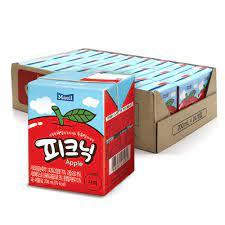picnic_apple: (27, 76, 116, 199)
